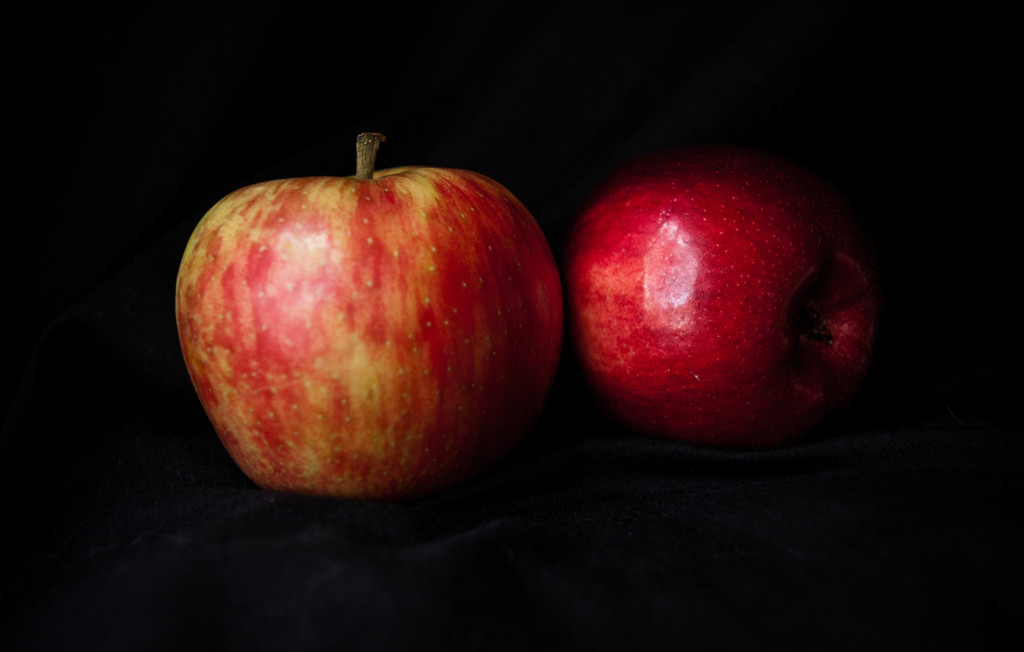Apple: (171, 130, 556, 504), (560, 153, 877, 458)
